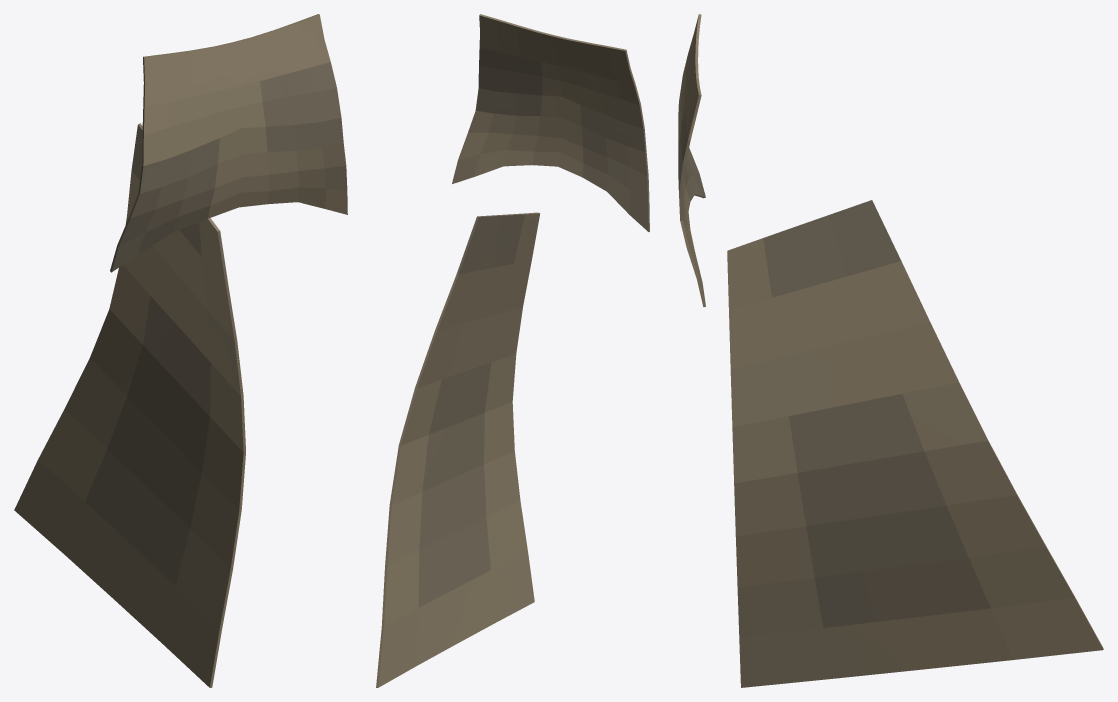
File: MediumShip_3_Mast1_Sails3.fbx
3 views of the same model, side by side, from view 1: azimuth 30°, elevation 25°; view 2: azimuth 150°, elevation 25°; view 3: azimuth 270°, elevation 25° (orthographic). The views are drawn at different scales.
Parts seen in each view (by area): view 1: MediumShip_3_Mast1_Sails3; view 2: MediumShip_3_Mast1_Sails3; view 3: MediumShip_3_Mast1_Sails3.
Boxes of the visible parts, box(x1,y1,x2,y2) form: MediumShip_3_Mast1_Sails3: box(14, 14, 347, 687); MediumShip_3_Mast1_Sails3: box(376, 14, 649, 687); MediumShip_3_Mast1_Sails3: box(678, 14, 1103, 687).
Size of the model in its own units: 650 by 1756 by 1071.
